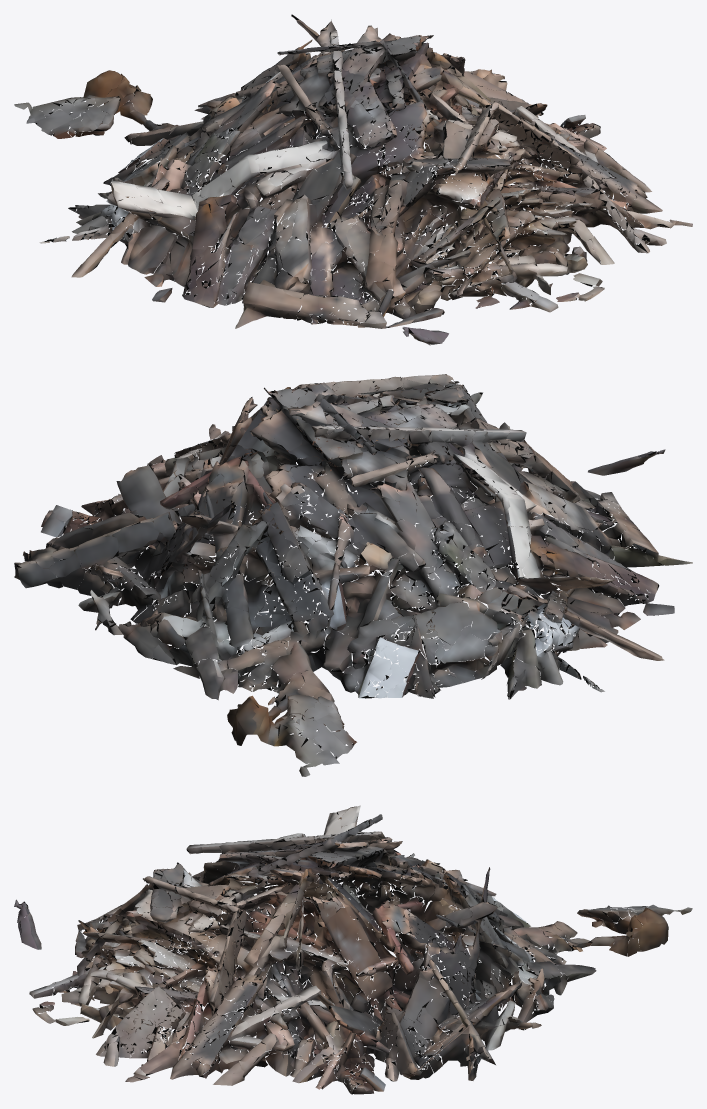
Rendered from SM_Escombros.fbx.
3 renders of one model, top to bottom at view 1: azimuth 30°, elevation 25°; view 2: azimuth 150°, elevation 25°; view 3: azimuth 270°, elevation 25°, orthographic. The views are drawn at different scales.
Parts seen in each view (by area): view 1: SM_Escombros; view 2: SM_Escombros; view 3: SM_Escombros.
Boxes of the visible parts, <box> form: SM_Escombros: <box>14,14,692,345</box>; SM_Escombros: <box>14,374,692,776</box>; SM_Escombros: <box>14,805,692,1094</box>.
Size of what is drawn, in the model's own units: 306 by 350 by 88.16.
1 material, 1 textured.
